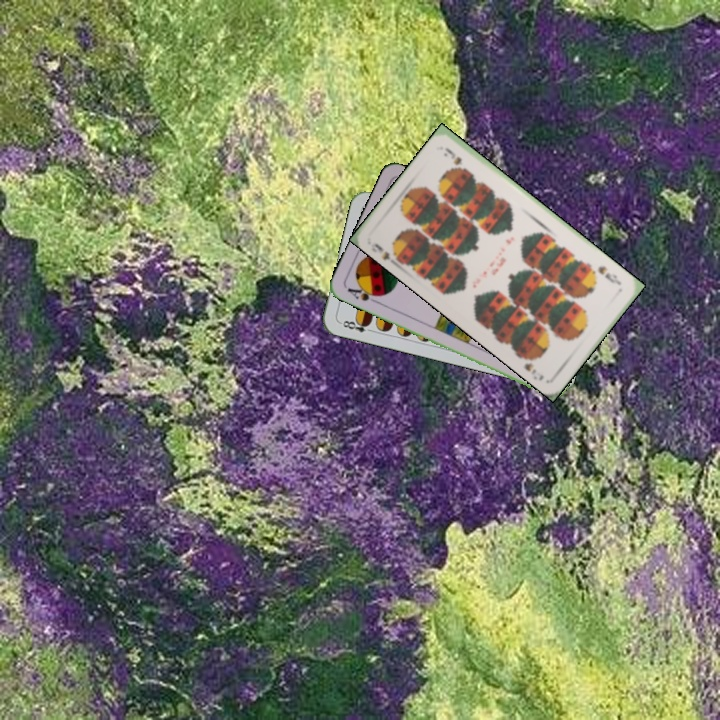E8: (336, 316, 376, 335)
S9: (371, 239, 402, 269), (594, 262, 624, 288)
SA: (343, 281, 384, 306)
